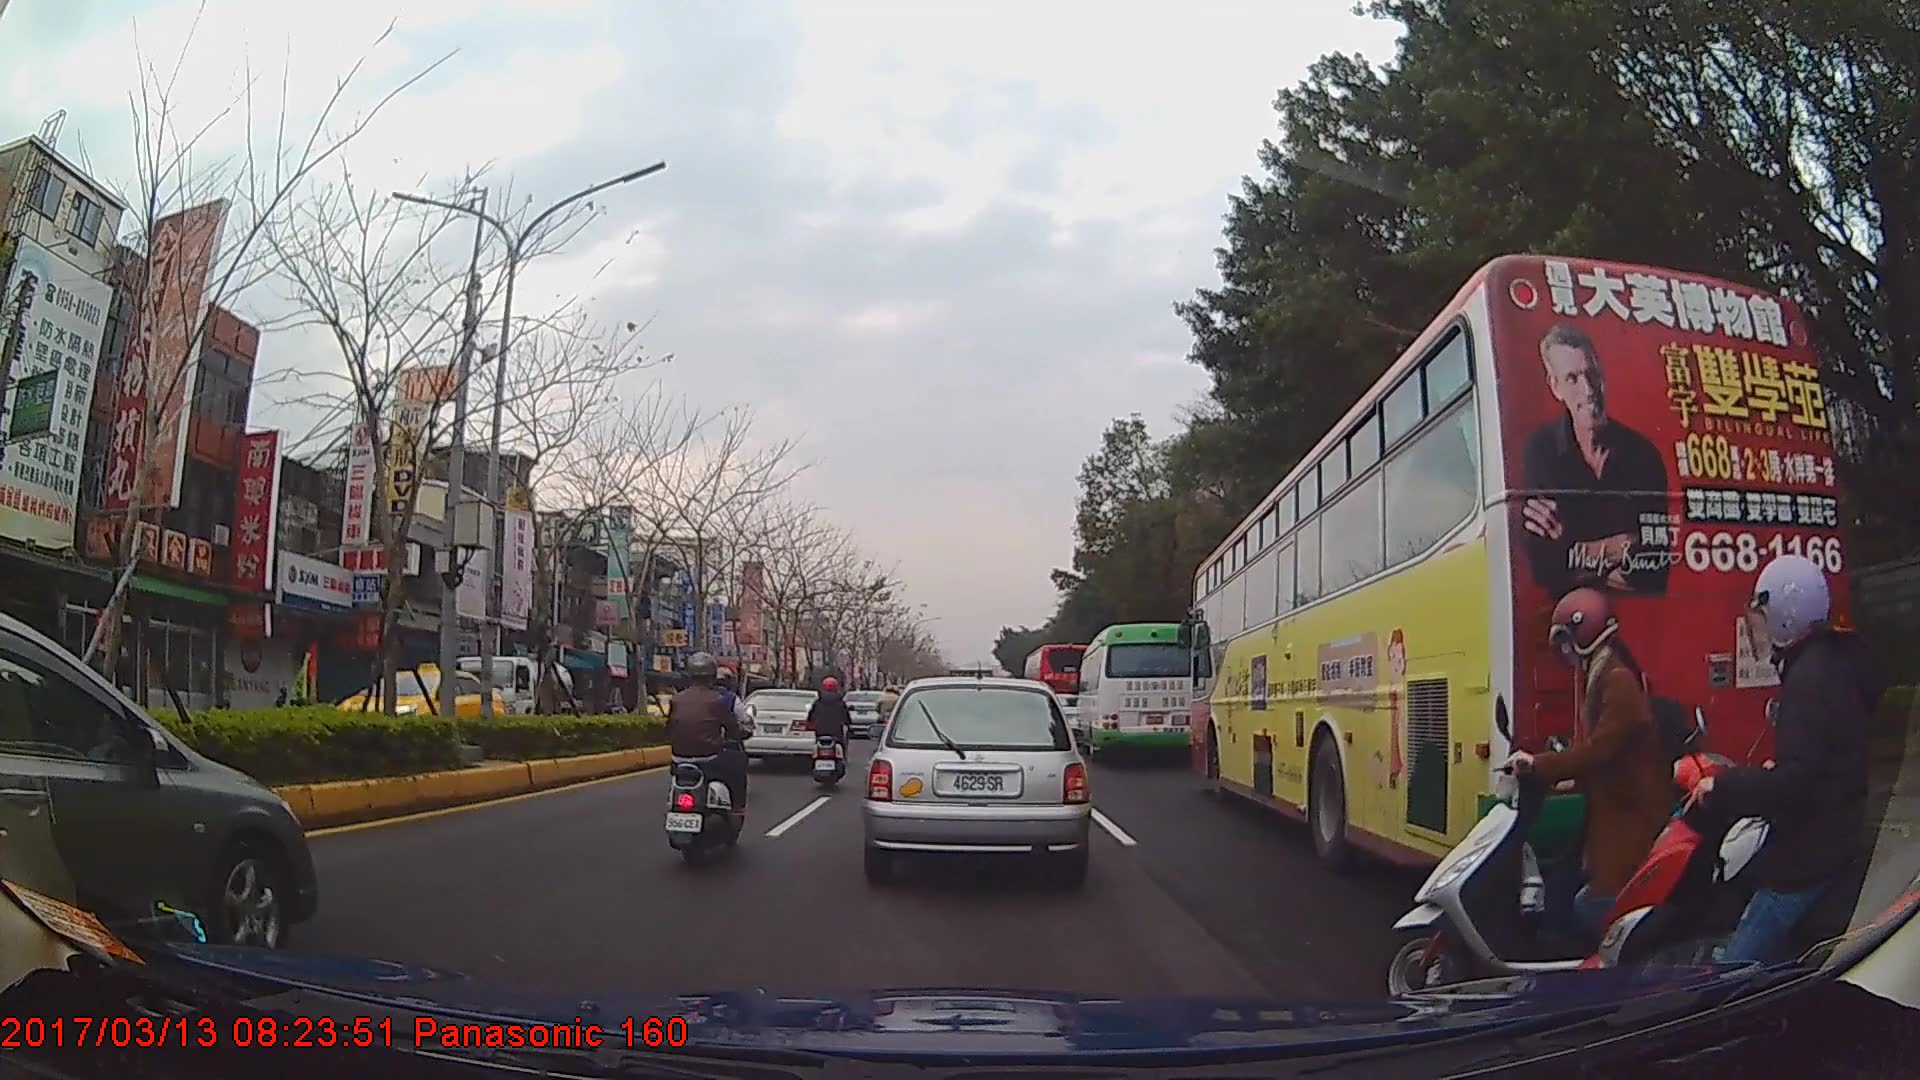rider: (1373, 586, 1777, 1026), (1593, 547, 1920, 1031), (663, 652, 753, 874), (806, 678, 853, 793), (874, 684, 902, 743)
vehicle: (1191, 253, 1852, 881), (0, 604, 312, 963), (866, 671, 1087, 881), (1073, 621, 1206, 764), (337, 659, 504, 756), (437, 650, 580, 747), (734, 688, 841, 773), (1019, 640, 1099, 732)
